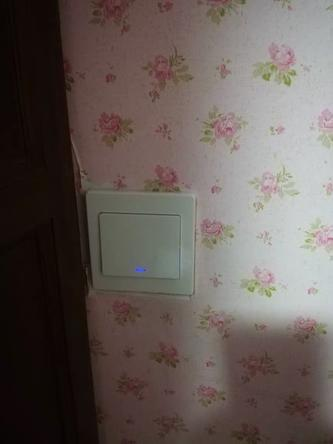switch: (93, 206, 187, 284)
